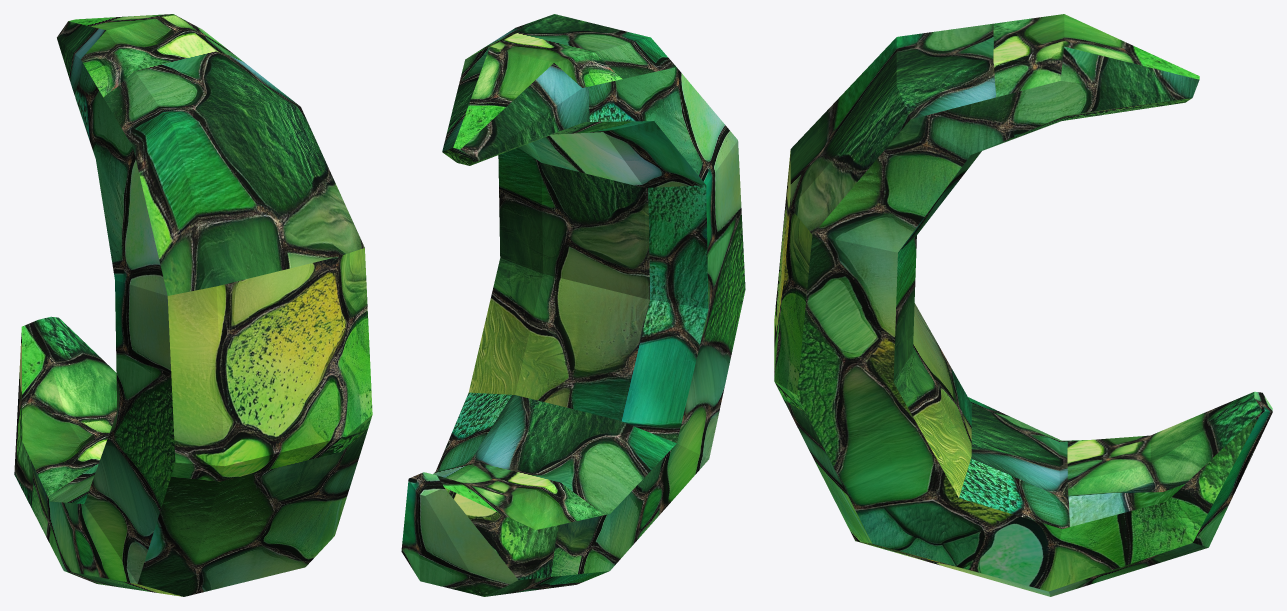
The model's file is gemstone9Green.glb.
3 renders of one model, left to right at view 1: azimuth 30°, elevation 25°; view 2: azimuth 150°, elevation 25°; view 3: azimuth 270°, elevation 25°, orthographic. The views are drawn at different scales.
Visible parts, largest first — view 1: gemstoneMoon; view 2: gemstoneMoon; view 3: gemstoneMoon.
Boxes of the visible parts, x1=… form: gemstoneMoon: x1=14, y1=14, x2=372, y2=596; gemstoneMoon: x1=401, y1=14, x2=745, y2=596; gemstoneMoon: x1=774, y1=14, x2=1272, y2=596.
Bounding box in the file's own units: 0.5 × 1.2 × 1.
1 material, 1 textured.
